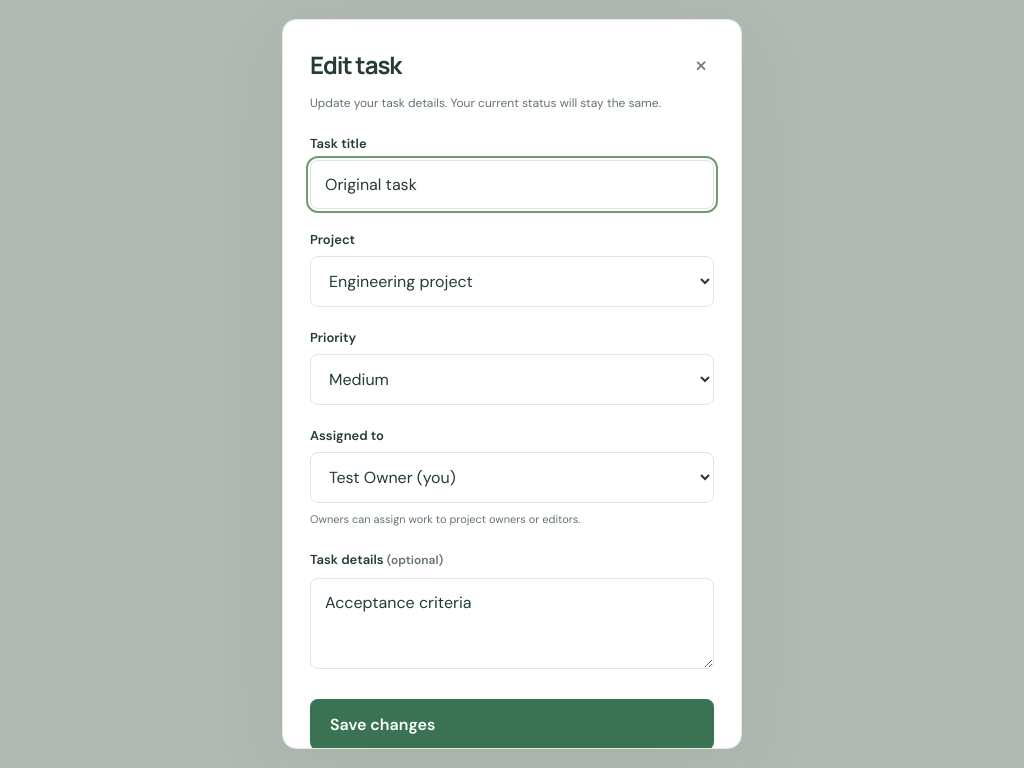
Test case: keeps failed saves open without losing task input
The width and height of the screenshot is (1024, 768).
Click the button "Save changes".
click(383, 724)  # box [310,699,714,750]
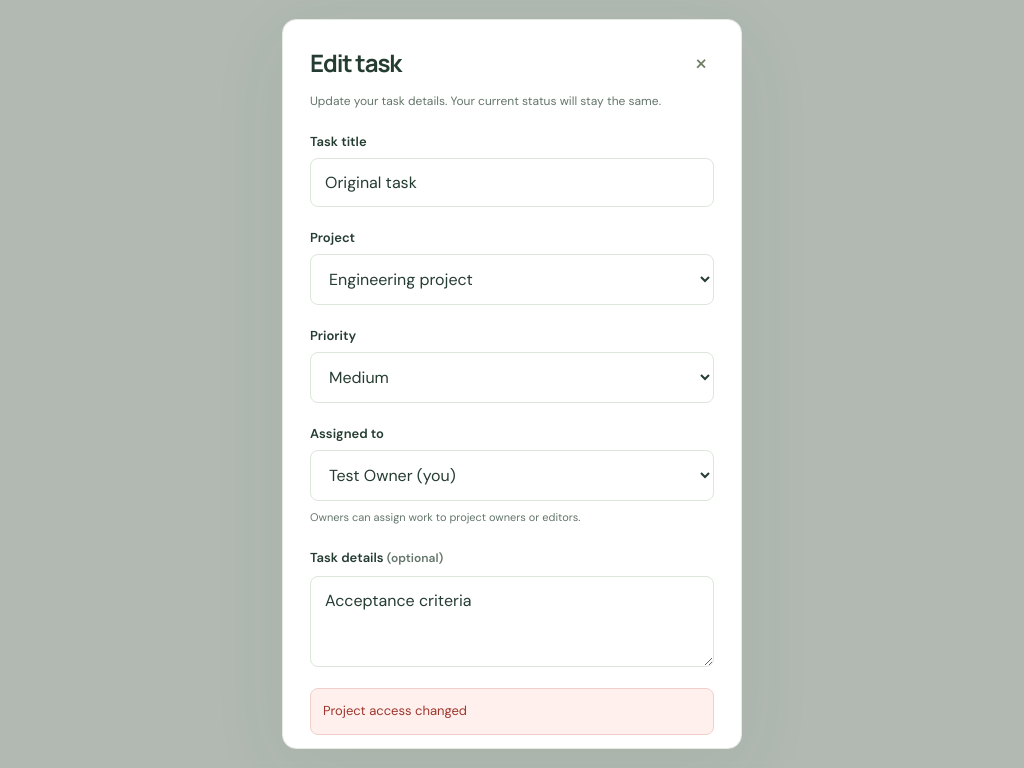
Expected: the field labelled "Task title" holds "Original task", [310,158,714,207]
Expected: the message reads "Project access changed", [323,702,467,719]
